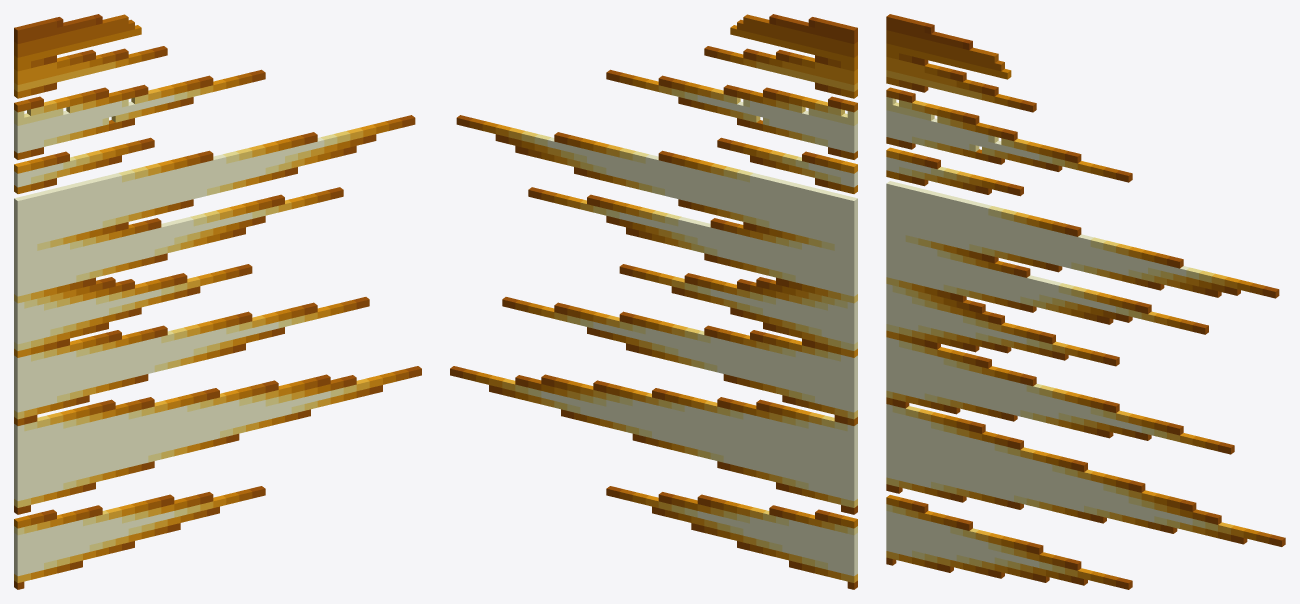
File: Fight_101_3_14_fx.obj
3 views of the same model, side by side, from view 1: azimuth 30°, elevation 25°; view 2: azimuth 150°, elevation 25°; view 3: azimuth 330°, elevation 25° (orthographic). The views are drawn at different scales.
Bounding box in the file's own units: 6.2 × 8.2 × 0.1.
